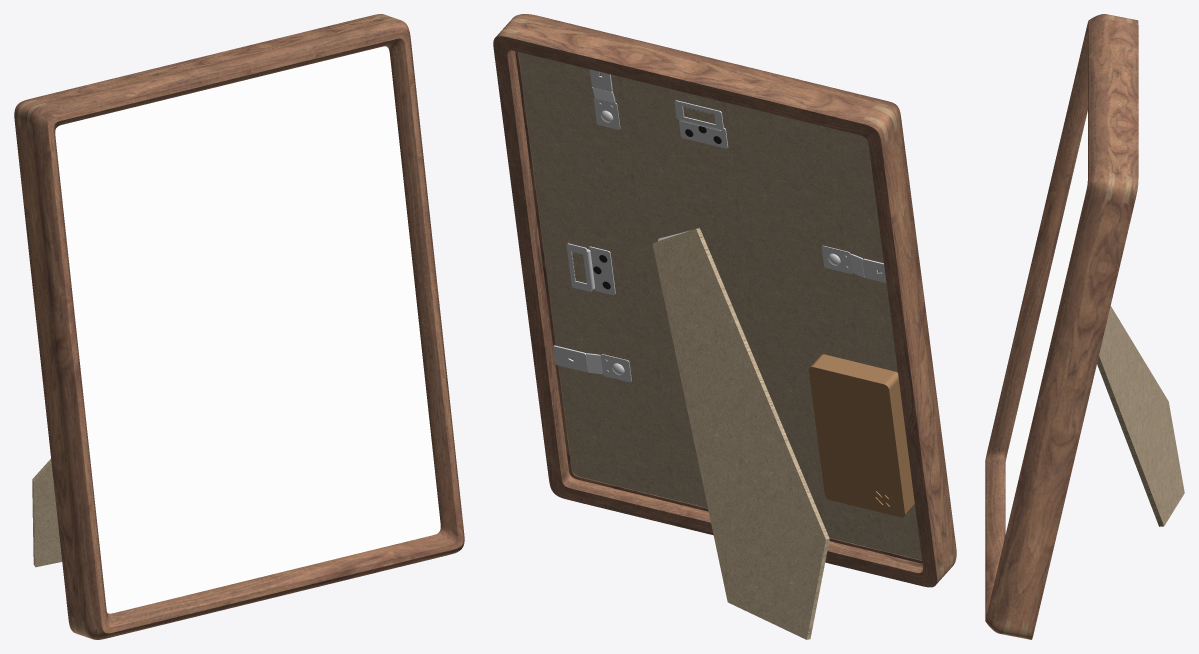
Rendered from featherframe.glb.
The picture shows the model from 3 angles, left to right: view 1: azimuth 30°, elevation 25°; view 2: azimuth 150°, elevation 25°; view 3: azimuth 270°, elevation 25°; orthographic projection. The views are drawn at different scales.
Parts seen in each view (by area): view 1: featherframe_picture, featherframe_mat, featherframe_walnut, featherframe_core, featherframe_stand; view 2: featherframe_mdf, featherframe_walnut, featherframe_stand, featherframe_pla, featherframe_silver; view 3: featherframe_walnut, featherframe_stand, featherframe_mat, featherframe_picture, featherframe_core.
Boxes of the visible parts, x1,y1,x2,y2 form: featherframe_picture: (108,125,378,531); featherframe_mat: (55,46,440,613); featherframe_walnut: (14,14,464,639); featherframe_core: (108,123,381,534); featherframe_stand: (32,459,62,567); featherframe_mdf: (518,52,921,560); featherframe_walnut: (493,14,956,587); featherframe_stand: (652,228,829,639); featherframe_pla: (808,354,914,517); featherframe_silver: (553,69,886,382); featherframe_walnut: (985,14,1138,639); featherframe_stand: (1097,306,1184,526); featherframe_mat: (1005,111,1087,533); featherframe_picture: (1024,153,1087,452); featherframe_core: (1021,137,1087,468).
Bounding box in the file's own units: 0.2317 × 0.2928 × 0.1143.
Materials: 10 (2 with a texture image).
